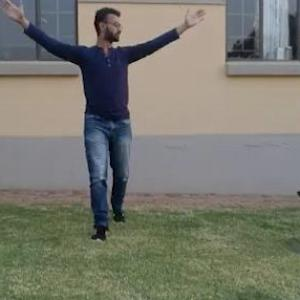takeoff: (3, 0, 212, 233)
